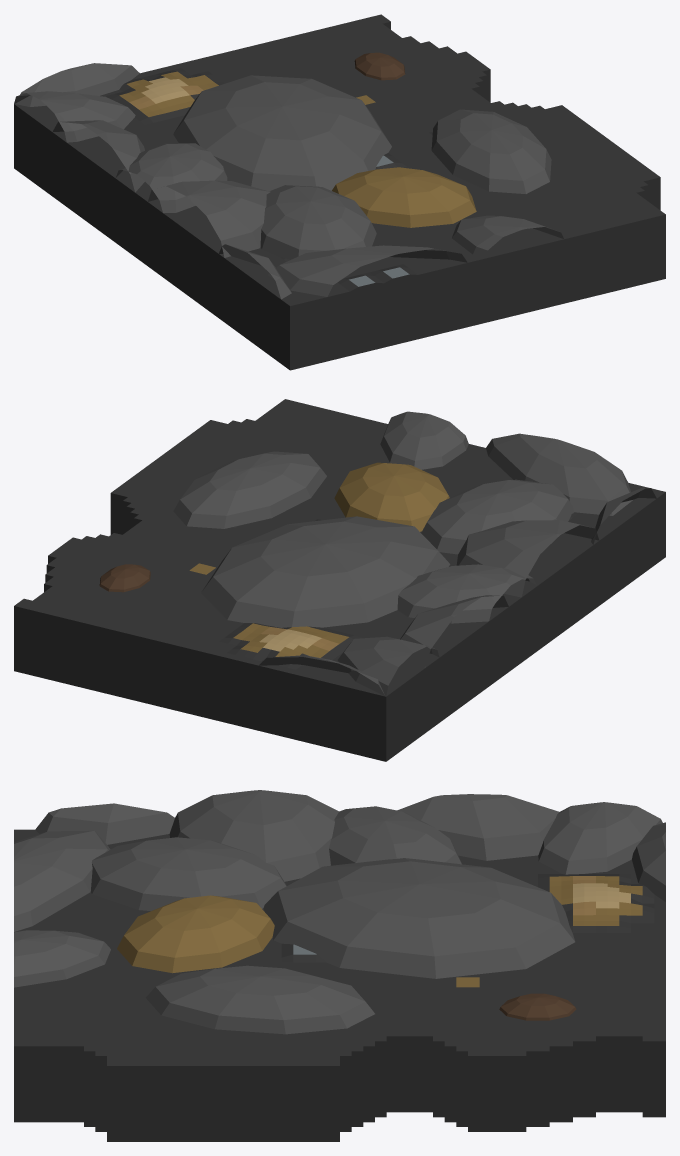
The picture shows the model from 3 angles, top to bottom: view 1: azimuth 30°, elevation 25°; view 2: azimuth 150°, elevation 25°; view 3: azimuth 270°, elevation 25°; orthographic projection. The views are drawn at different scales.
Visible parts, largest first — view 1: shapesz-t132; view 2: shapesz-t132; view 3: shapesz-t132.
Part boxes in pixels (<box>): shapesz-t132: <box>14,14,665,370</box>; shapesz-t132: <box>14,399,665,761</box>; shapesz-t132: <box>14,790,665,1141</box>.
Bounding box in the file's own units: 2 × 0.458 × 2.33.
